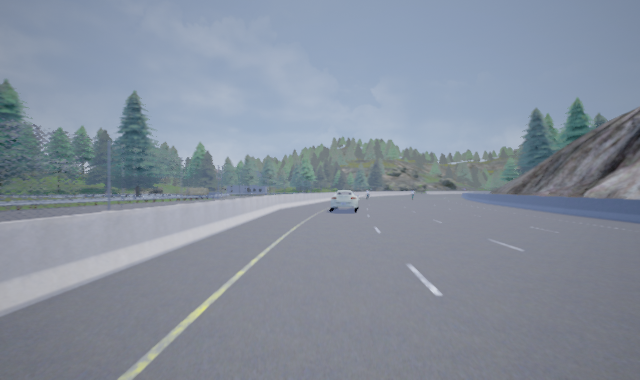vehicle: (328, 189, 359, 212)
